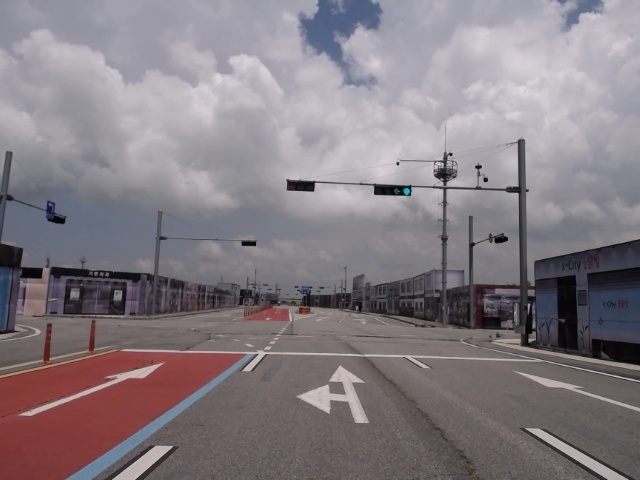all_green_4: (373, 185, 412, 196)
